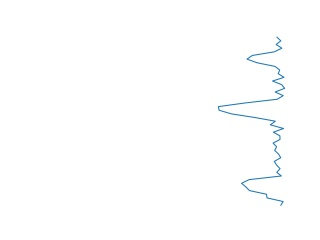underwaterNaturalLevee: (212, 37, 289, 206)
